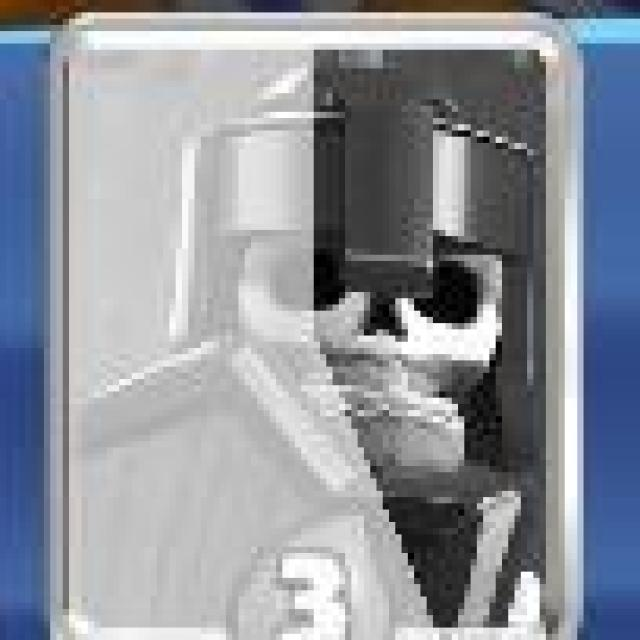Guards: (41, 7, 593, 640)
